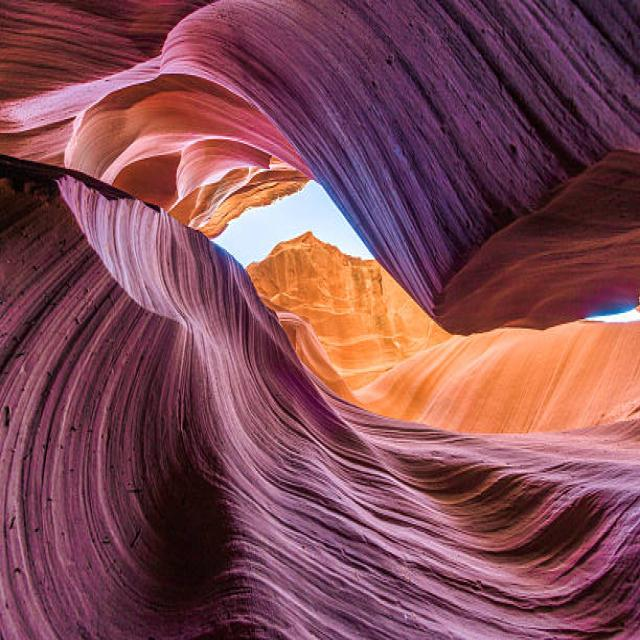Sedimentary: (1, 3, 639, 634)
